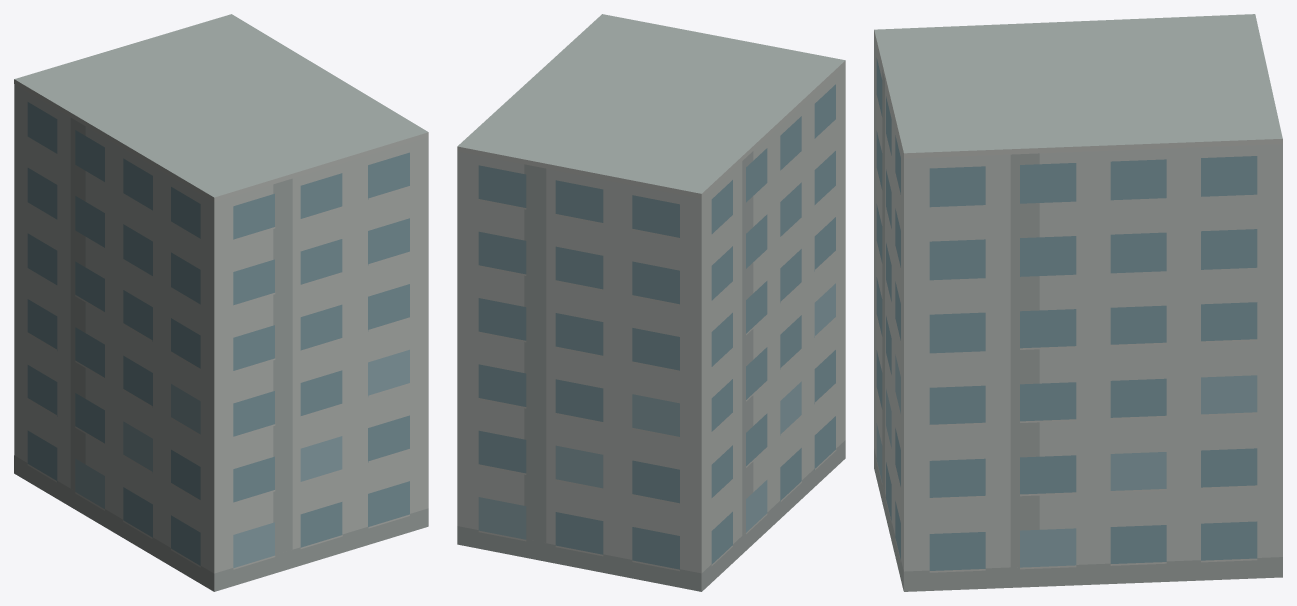
Rendered from survey-upis-32813241.glb.
3 renders of one model, left to right at view 1: azimuth 30°, elevation 25°; view 2: azimuth 150°, elevation 25°; view 3: azimuth 270°, elevation 25°, orthographic. The views are drawn at different scales.
Visible parts, largest first — view 1: survey-upis-32813241.tmp; view 2: survey-upis-32813241.tmp; view 3: survey-upis-32813241.tmp.
Boxes of the visible parts, x1,y1,x2,y2 form: survey-upis-32813241.tmp: (14,14,428,591); survey-upis-32813241.tmp: (457,14,845,591); survey-upis-32813241.tmp: (874,14,1282,591).
Size of the model in its own units: 13.59 by 19.95 by 16.86.
